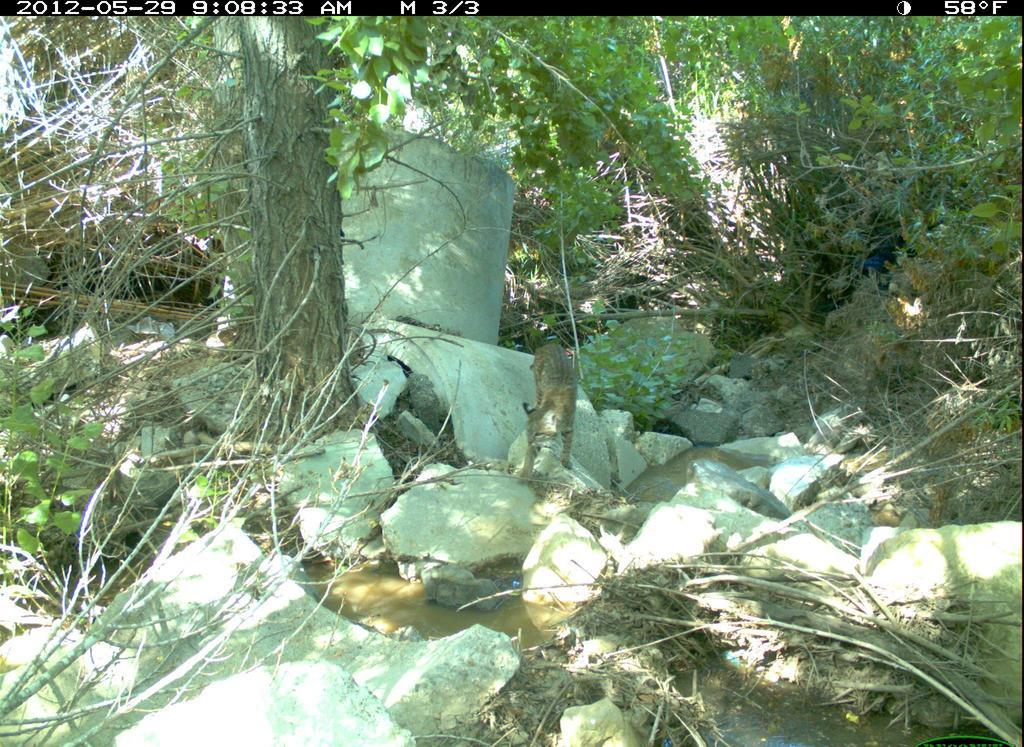bobcat: (506, 332, 593, 482)
